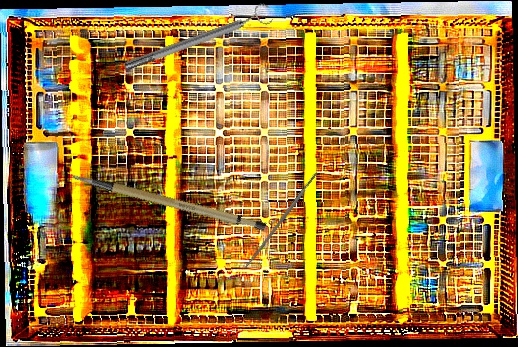Fixation Ring: (120, 1, 276, 77)
Scalpel Handle: (70, 143, 268, 257), (243, 171, 320, 270)
